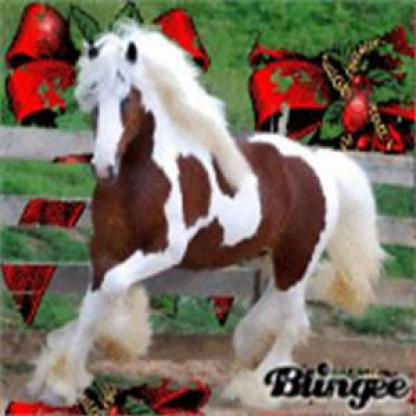horse: (44, 28, 378, 393)
